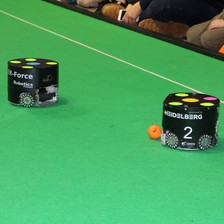ball: (145, 123, 162, 140)
robot: (159, 88, 222, 154), (5, 52, 64, 110)
